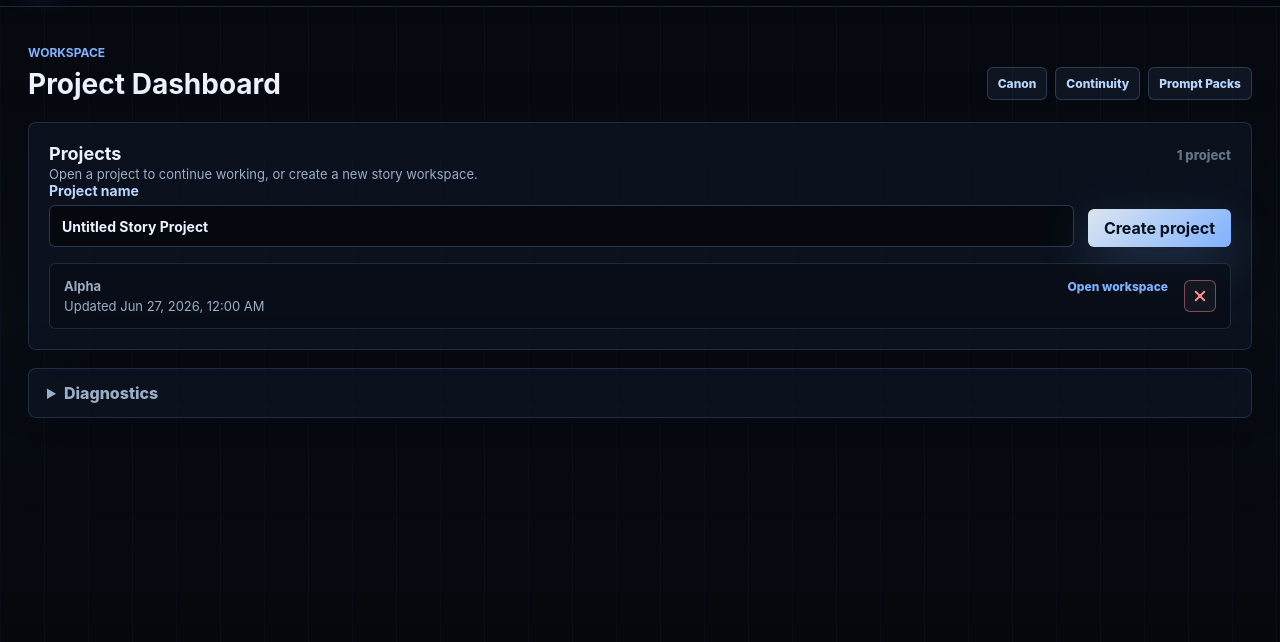
Test: App shell routing › reuses dashboard health data when navigating to monitoring inside the freshness window
Click the heading "Diagnostics".
click(111, 393)  # box x1=64 y1=383 x2=158 y2=403
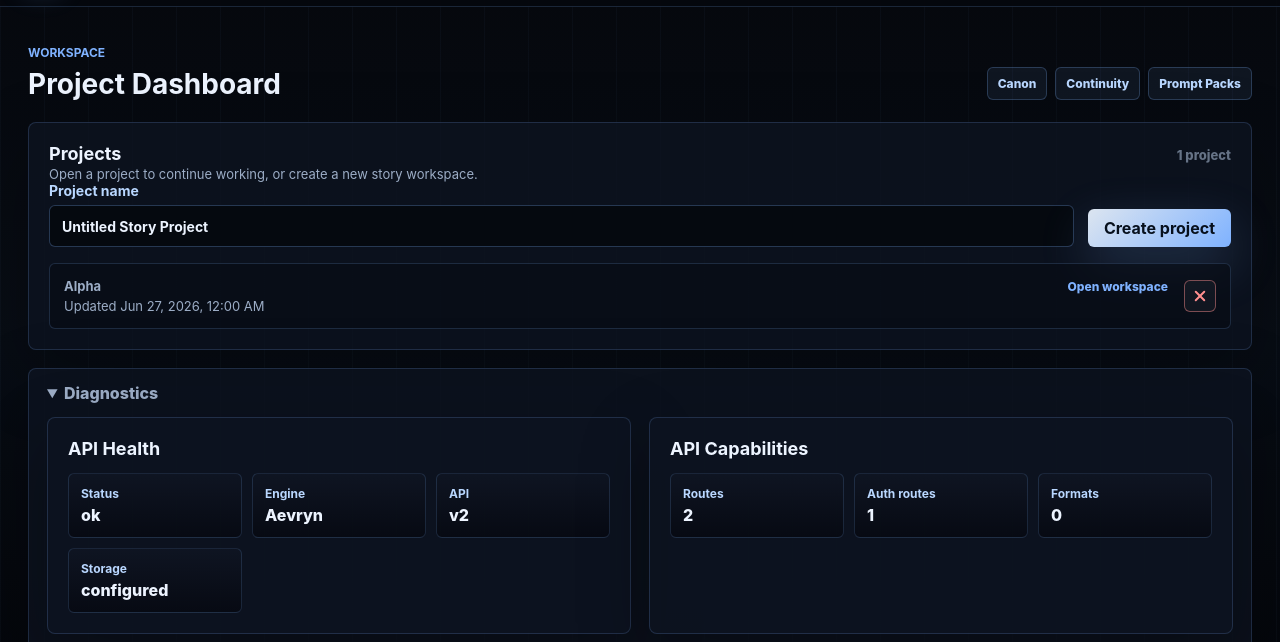
Check: the element "API Health" shows "ok", box x1=81 y1=505 x2=100 y2=525
Click the link "Alpha Open workspace Updated Jun 27, 2026, 12:00 AM".
click(83, 286)  # box x1=64 y1=278 x2=1168 y2=314
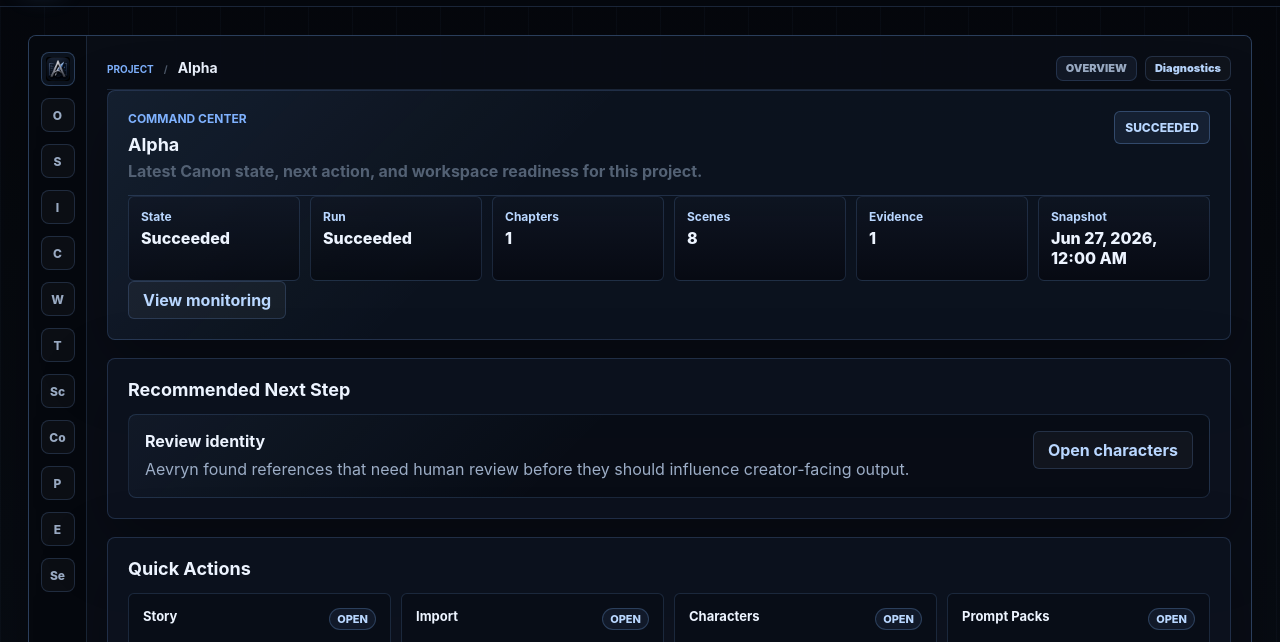
Click the link "View monitoring".
click(207, 300)  # box x1=128 y1=281 x2=286 y2=319
(page scrolled)
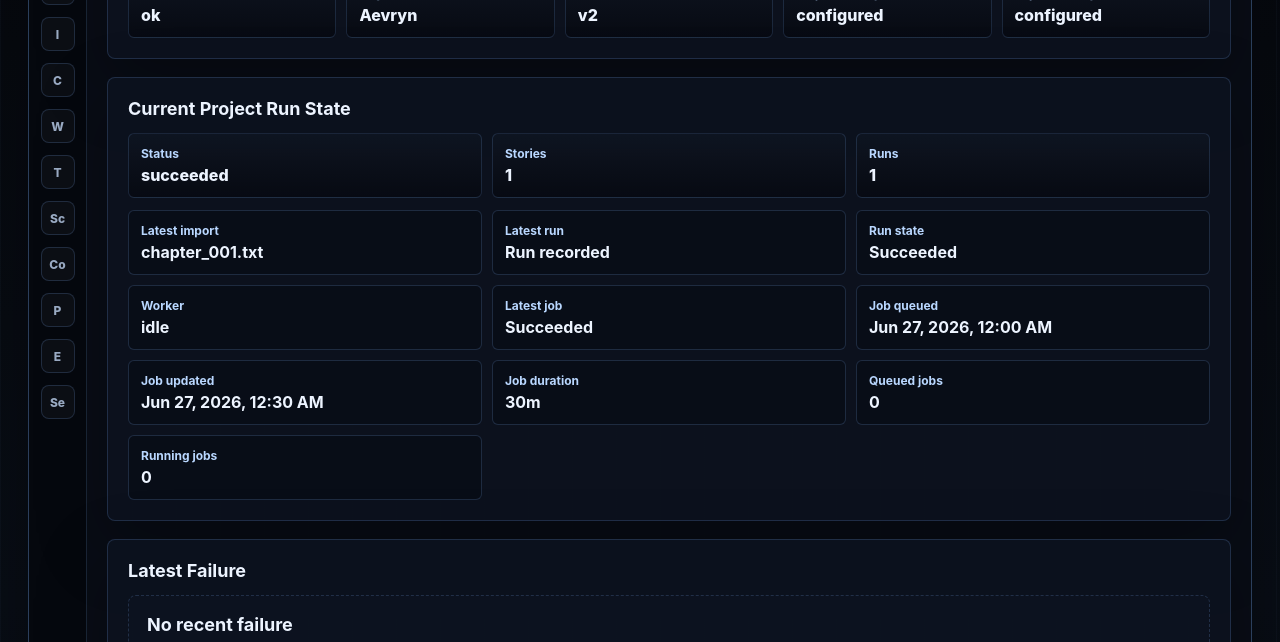
Check: the element "Current Project Run State" shows "succeeded", box x1=141 y1=165 x2=229 y2=185
